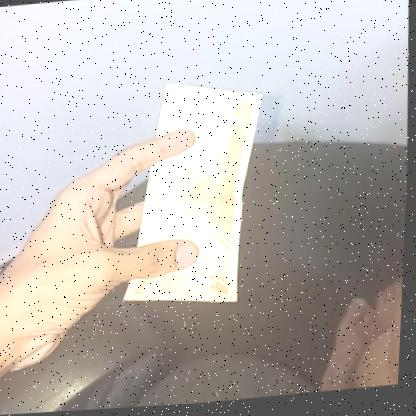twenty-back-vef: (119, 75, 270, 316)
